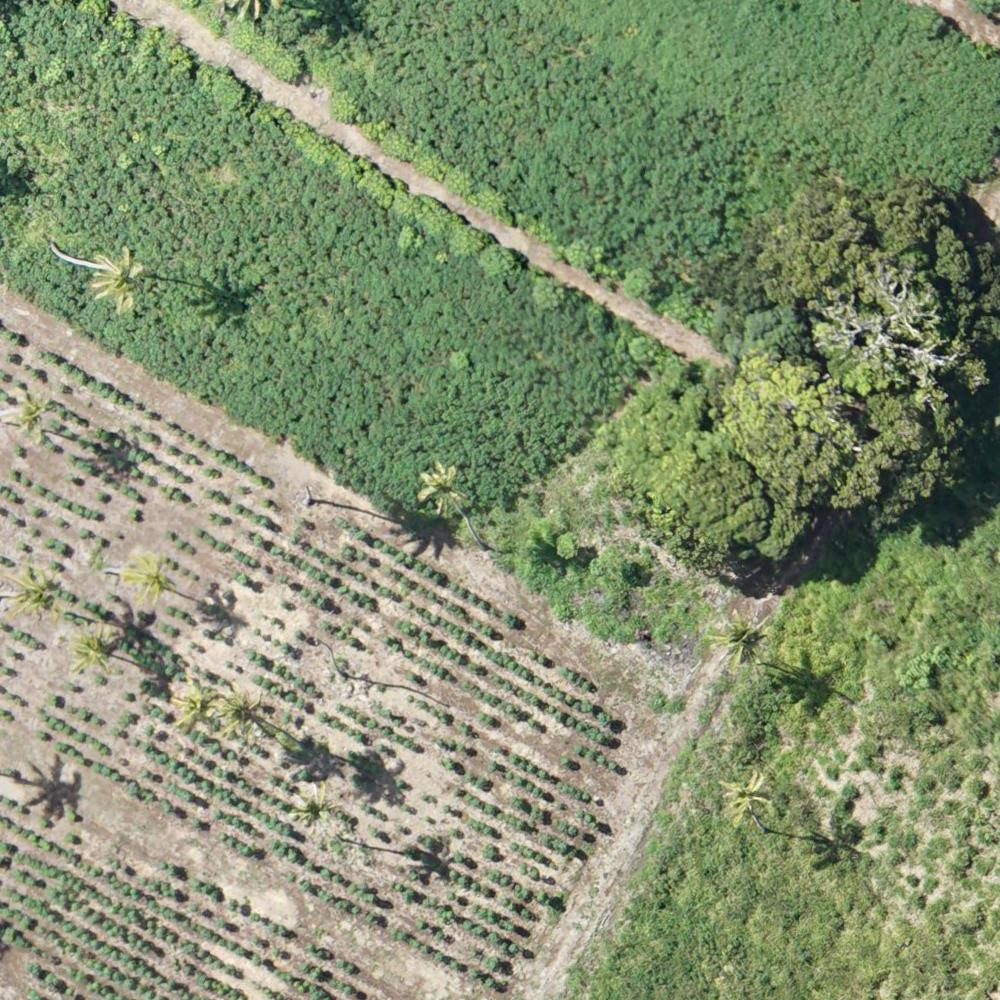Palm: (716, 769, 782, 831), (709, 610, 774, 672), (90, 251, 150, 315), (6, 562, 65, 624), (120, 552, 178, 606), (216, 686, 271, 736), (169, 683, 222, 734), (413, 465, 463, 519), (290, 781, 345, 830), (72, 624, 120, 679), (9, 390, 52, 438)
